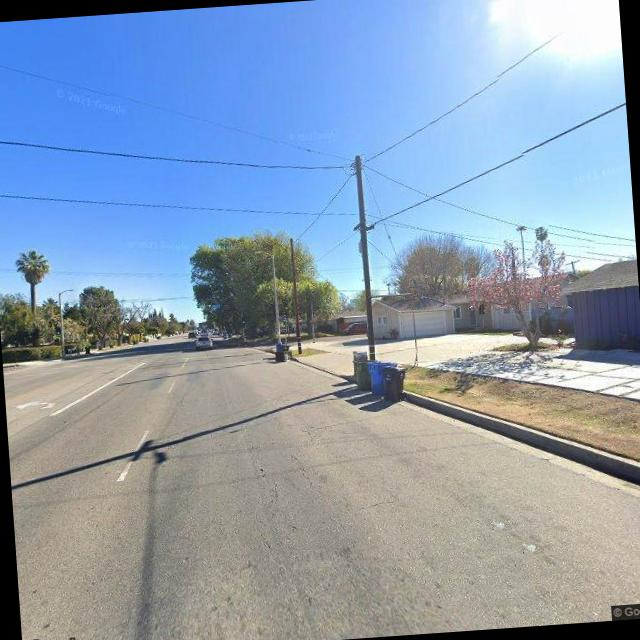pothole: (288, 448, 315, 492)
